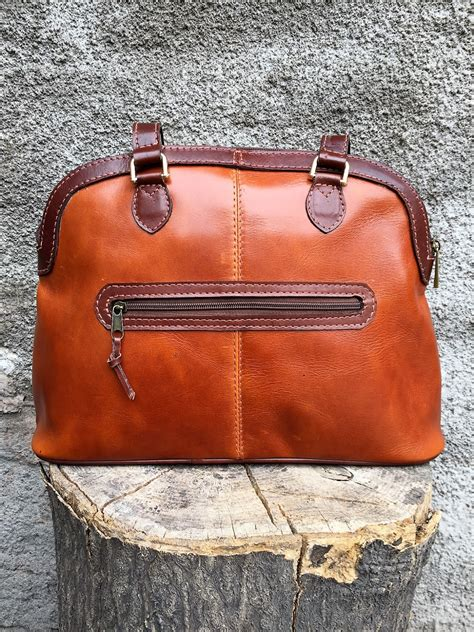cuero: (31, 118, 448, 462)
